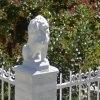Statue: (9, 8, 65, 97)
